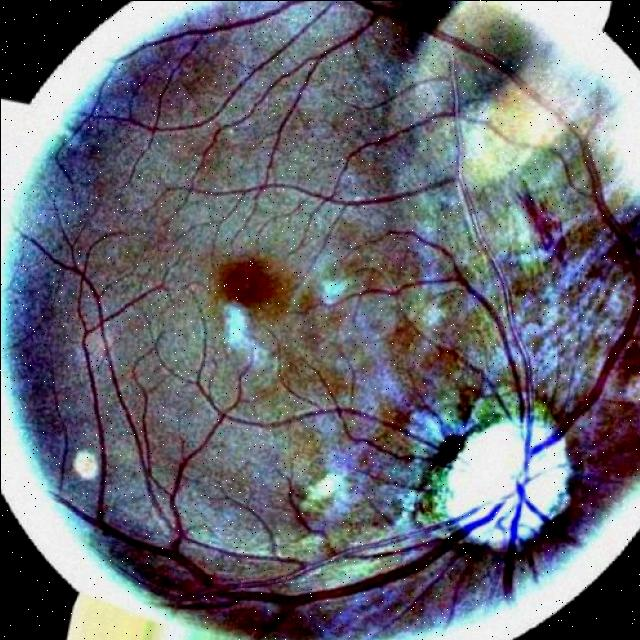Macula: (222, 259, 277, 307)
Nerves: (21, 0, 640, 637)
Optic Disk: (434, 409, 570, 547)
